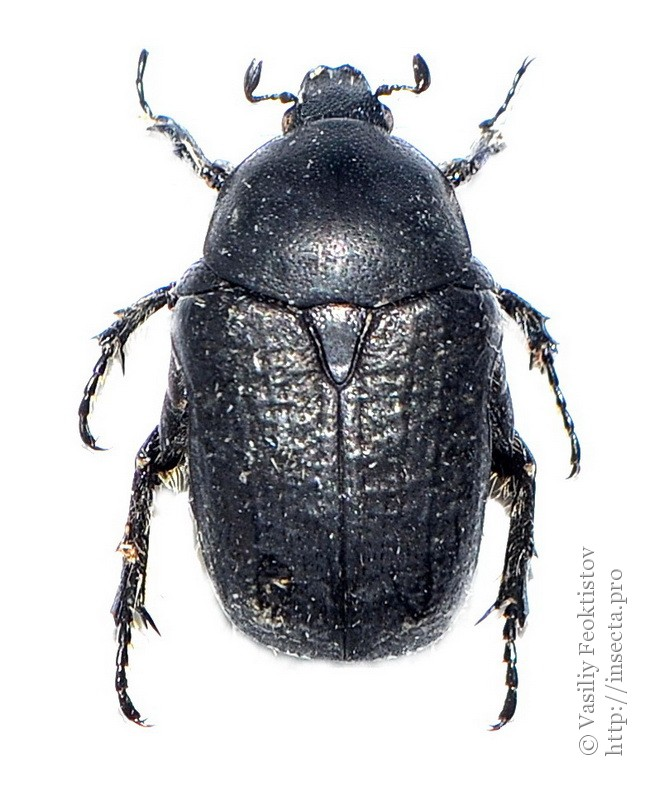Protaetia_asiatica: (64, 16, 592, 747)
